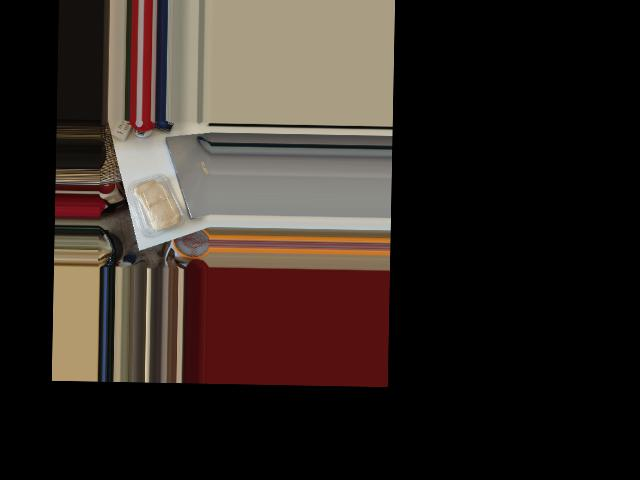cheese: (126, 171, 186, 242)
